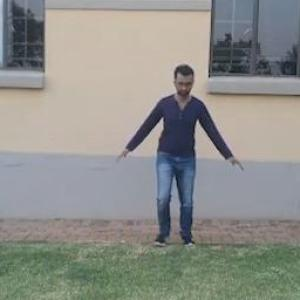land: (110, 63, 253, 252)
